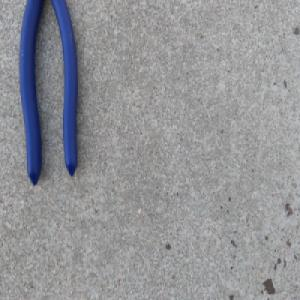Pliers: (17, 0, 79, 186)
